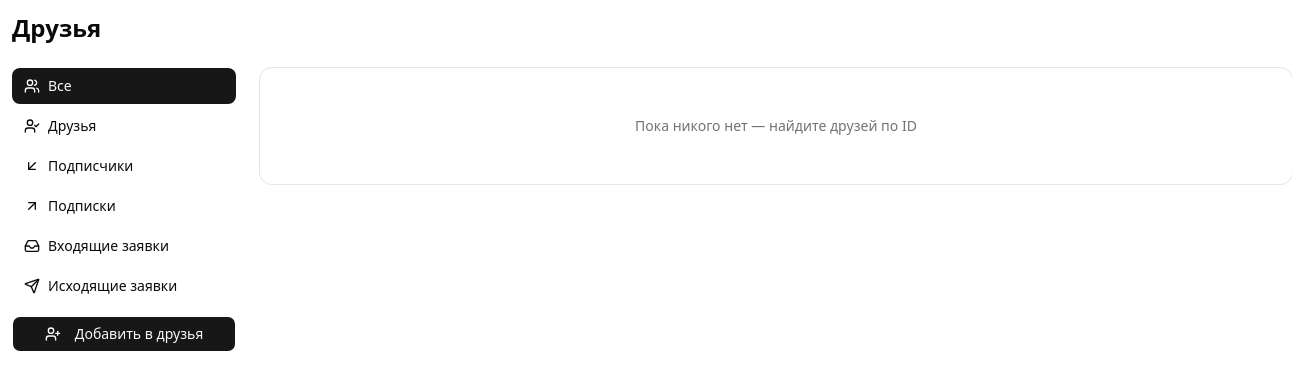
FriendsPage › switches to a category tab and shows its empty state
Click the button "Входящие заявки". click: point(124, 246)
box: x1=12 y1=228 x2=236 y2=264
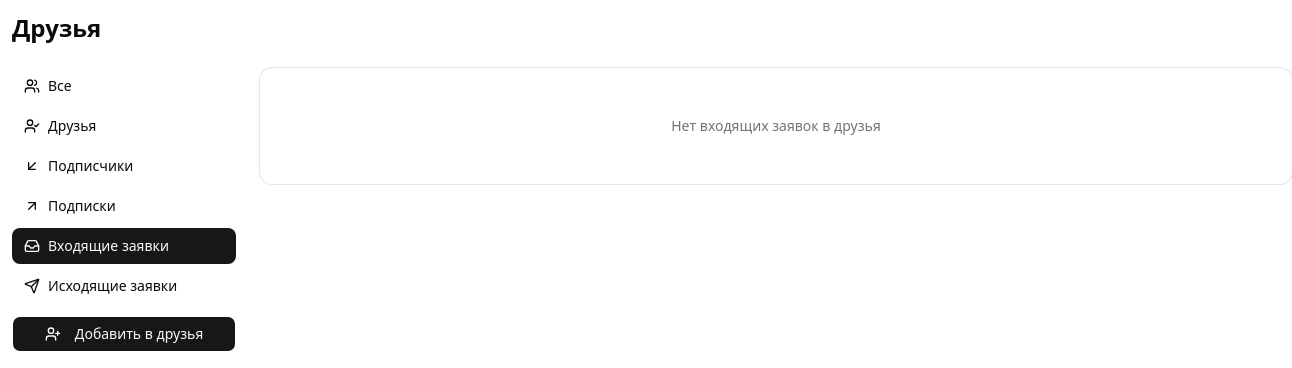
Result: the text "Нет входящих заявок в друзья" is shown at x1=671 y1=116 x2=881 y2=135
